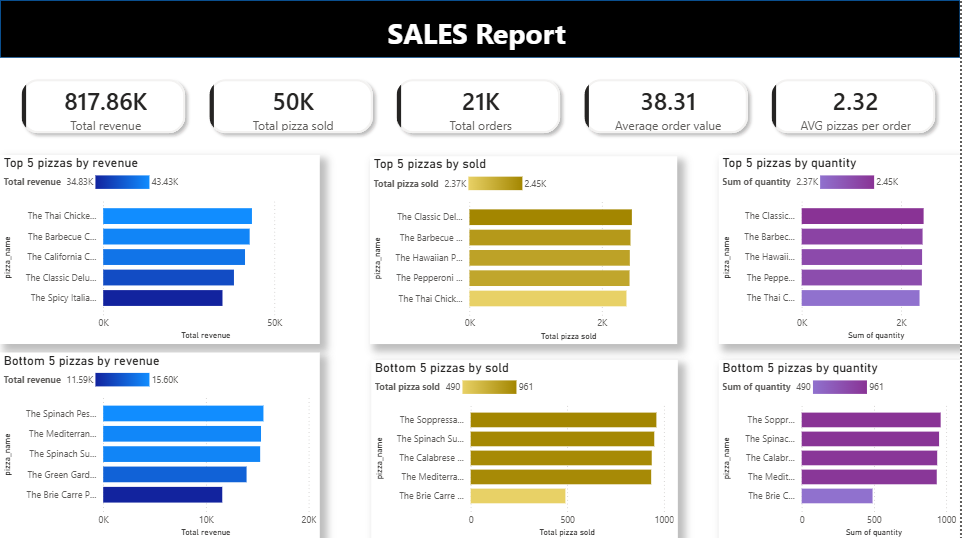

The dashboard page shown, as its layout file describes it:
{"tool":"powerbi","page":{"name":"Best/worst sales","canvas":[1280,720],"ordinal":1},"visuals":[{"type":"cardVisual","fields":{"Data":["pizza_sales.Total revenue","pizza_sales.Total pizza sold","pizza_sales.Total orders","pizza_sales.Average order value","pizza_sales.AVG pizzas per order"]},"box":[0,77,1280.3,130.3],"z":0},{"type":"shape","box":[0,0,1280.3,77],"z":1000},{"type":"textbox","box":[512.4,13.5,288.6,63.6],"z":2000},{"type":"barChart","title":"Top 5  pizzas by revenue","fields":{"Category":["pizza_sales.pizza_name"],"Y":["pizza_sales.Total revenue"]},"box":[0,206.7,426.8,251.9],"z":3000},{"type":"barChart","title":"Bottom 5 pizzas by revenue","fields":{"Category":["pizza_sales.pizza_name"],"Y":["pizza_sales.Total revenue"]},"box":[0,469.6,426.8,250.7],"z":4000},{"type":"barChart","title":"Top 5 pizzas by sold","fields":{"Y":["pizza_sales.Total pizza sold"],"Category":["pizza_sales.pizza_name"]},"box":[494,207.9,409.6,250.7],"z":5000},{"type":"barChart","title":"Bottom 5 pizzas by  sold","fields":{"Y":["pizza_sales.Total pizza sold"],"Category":["pizza_sales.pizza_name"]},"box":[495.2,479.4,408.4,240.9],"z":6000},{"type":"barChart","title":"Top 5 pizzas by quantity","fields":{"Y":["Sum(pizza_sales.quantity)"],"Category":["pizza_sales.pizza_name"]},"box":[958.7,206.7,321.6,251.9],"z":7000},{"type":"barChart","title":"Bottom 5 pizzas by quantity","fields":{"Y":["Sum(pizza_sales.quantity)"],"Category":["pizza_sales.pizza_name"]},"box":[958.7,479.4,321.6,240.9],"z":8000}]}

Visuals, with their boxes in screenshot pixels (x1, y1, x2, y2), scaled from the page's 1280x720 canvas onto the 963x538 screenshot:
cardVisual - pizza_sales.Total revenue x pizza_sales.Total pizza sold: [0,58,962,155]
shape: [0,0,962,58]
textbox: [386,10,603,58]
"Top 5  pizzas by revenue" barChart: [0,154,321,343]
"Bottom 5 pizzas by revenue" barChart: [0,351,321,537]
"Top 5 pizzas by sold" barChart: [372,155,680,343]
"Bottom 5 pizzas by  sold" barChart: [373,358,680,537]
"Top 5 pizzas by quantity" barChart: [721,154,962,343]
"Bottom 5 pizzas by quantity" barChart: [721,358,962,537]
